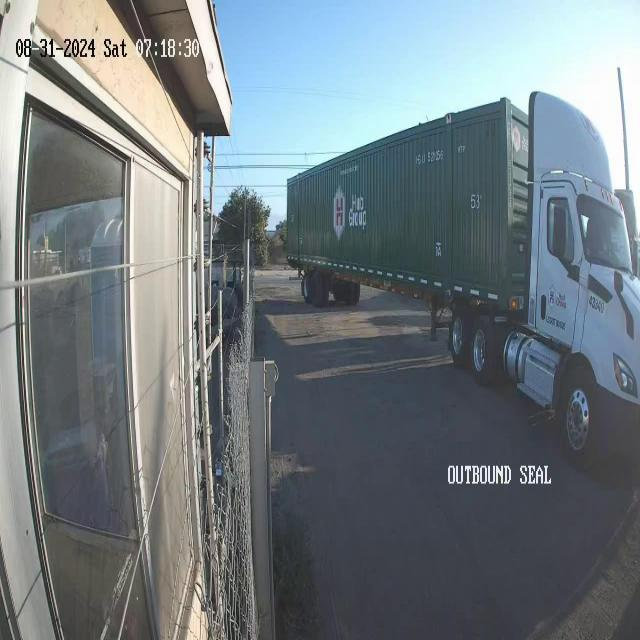TRUCK_IN: (285, 88, 639, 468)
